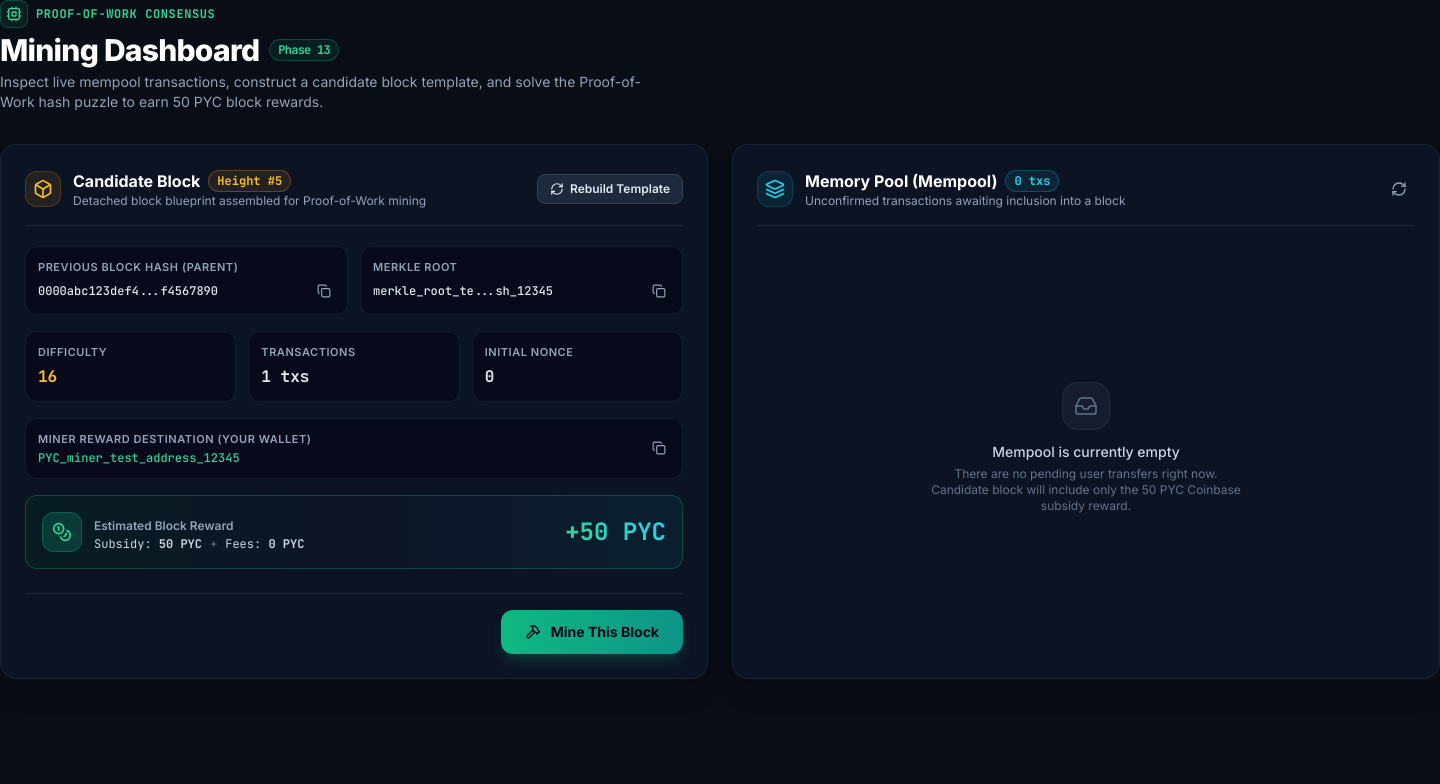
Test: MiningPage › starts mining when Mine This Block is clicked
Expected: the text "Height #5" is shown, x1=208 y1=170 x2=291 y2=192
Click the button "Mine This Block" at (592, 632), box x1=501 y1=610 x2=683 y2=654
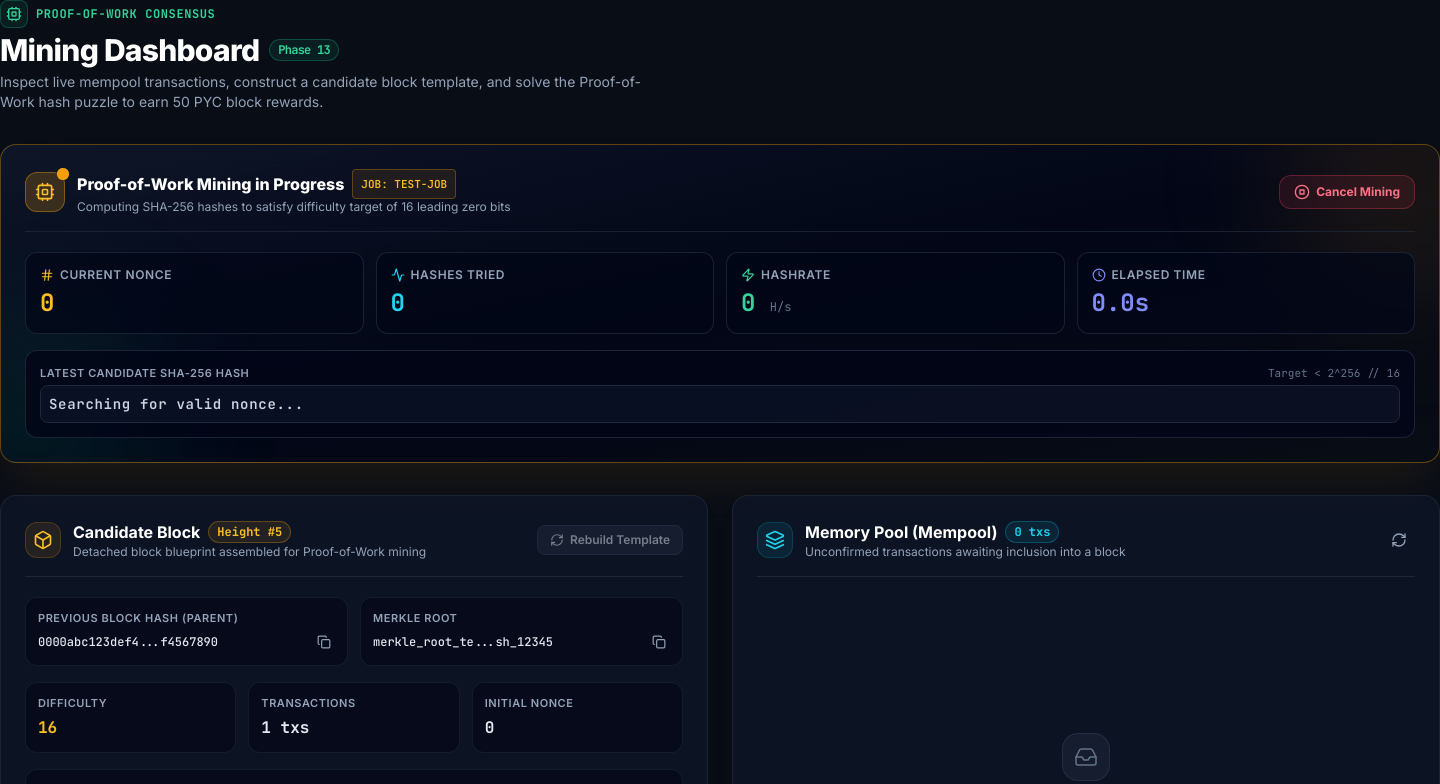
Expected: the heading "Proof-of-Work Mining in Progress" is shown, x1=77 y1=174 x2=344 y2=194
Expected: the button "Cancel Mining" is shown, x1=1279 y1=175 x2=1415 y2=209
